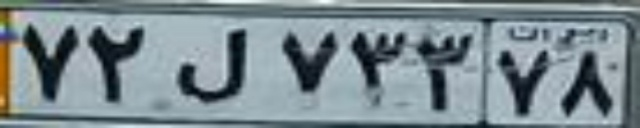2: (86, 22, 144, 103)
3: (411, 31, 478, 111), (347, 28, 407, 110)
7: (276, 30, 341, 108), (18, 23, 79, 103), (493, 45, 550, 116)
8: (556, 48, 619, 117)
lam: (169, 27, 249, 103)
